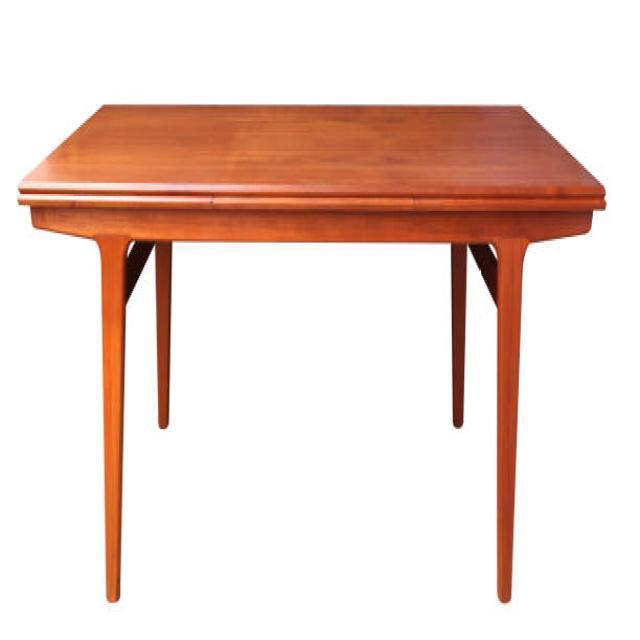table: (16, 100, 606, 604)
